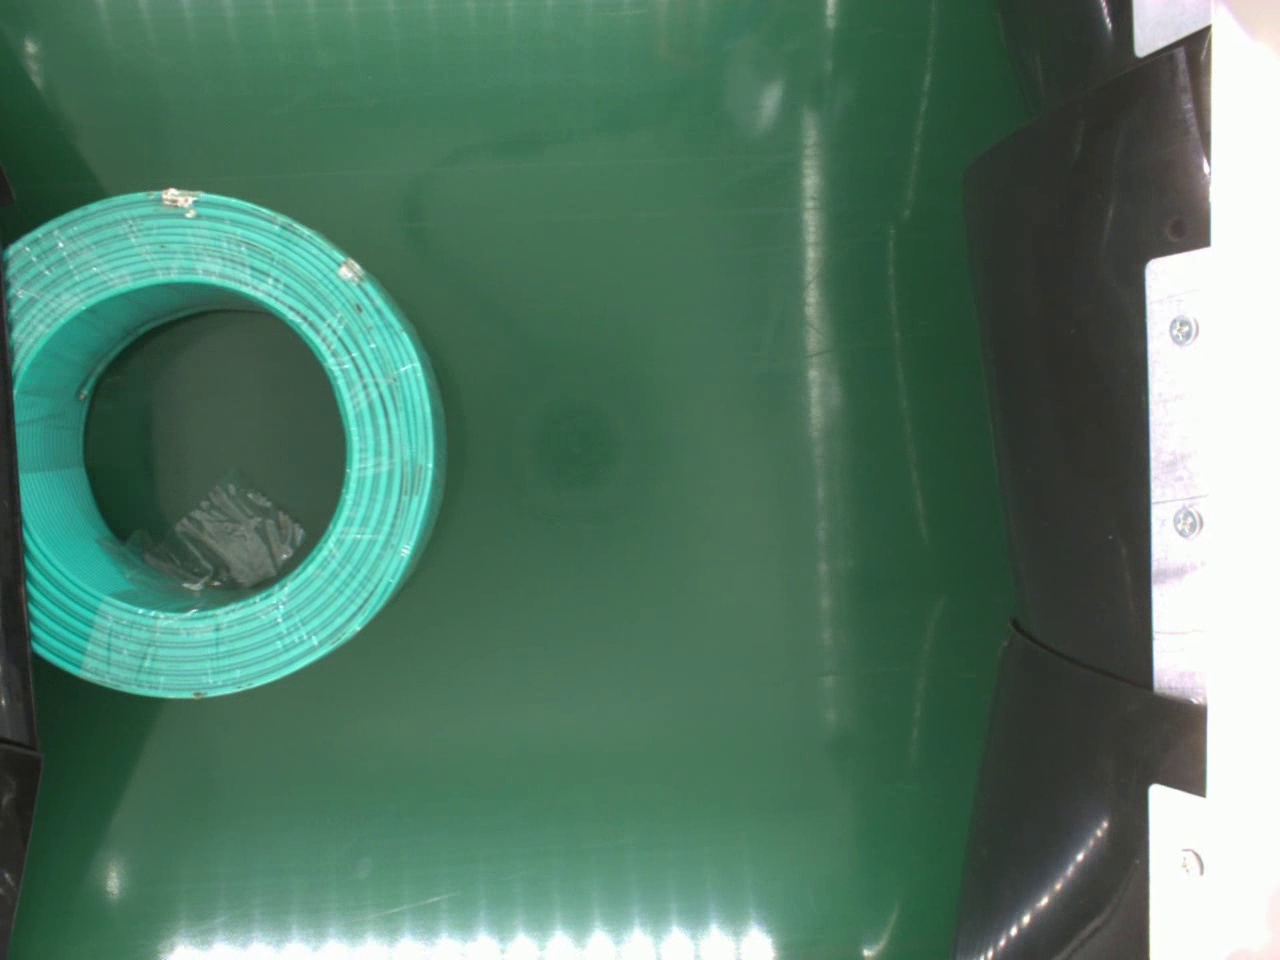green: (0, 183, 447, 710)
